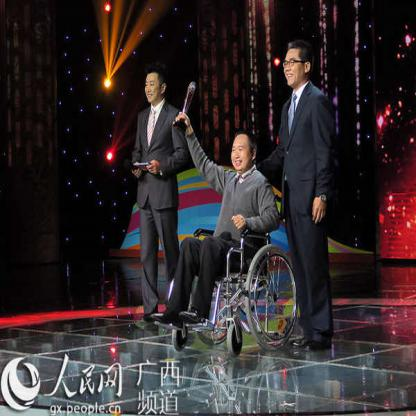wheelchair: (173, 128, 299, 370)
